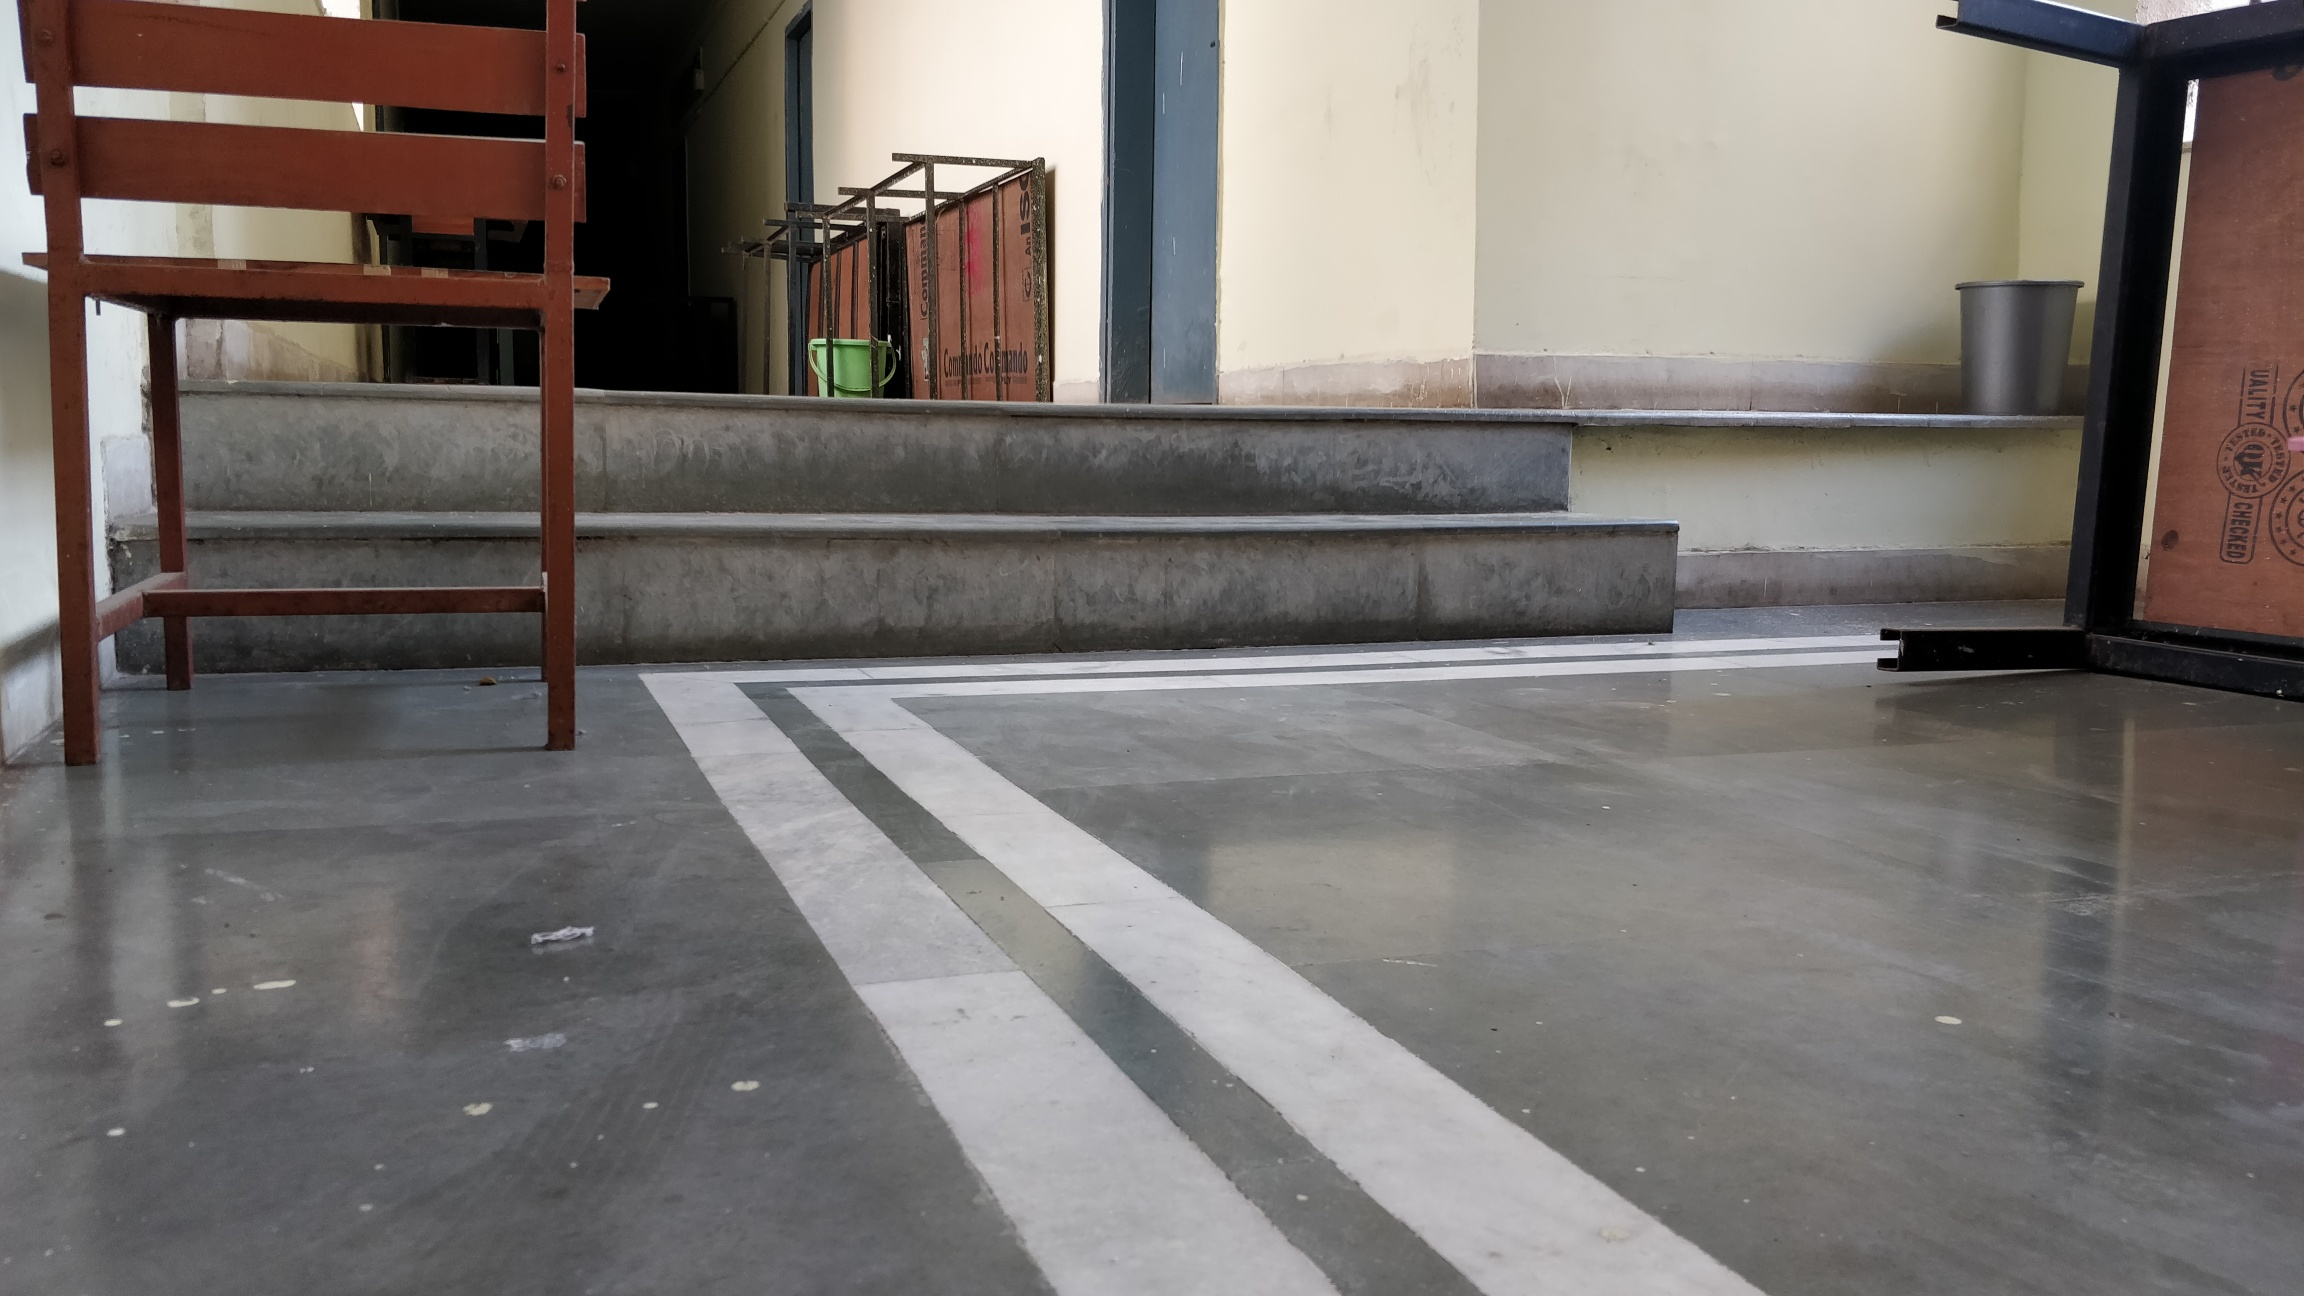stairs_up: (571, 377, 1662, 639)
